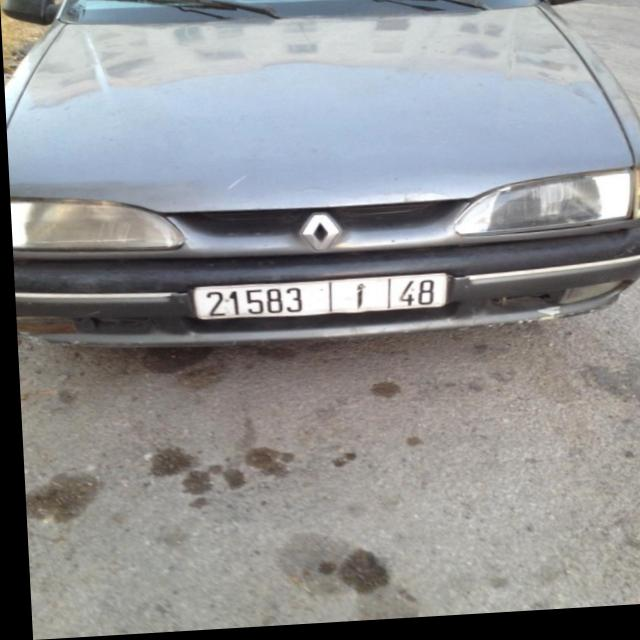License-Plate: (194, 281, 444, 322)
